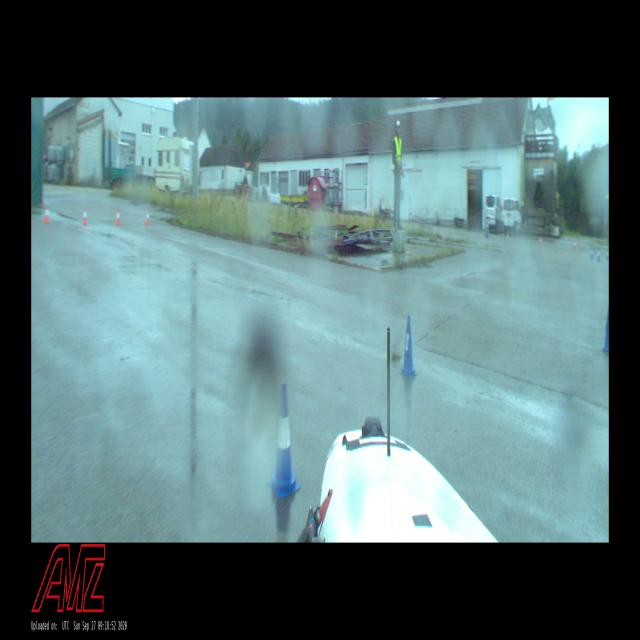blue_cone: (268, 383, 300, 499), (399, 315, 417, 378), (601, 304, 609, 352)
orange_cone: (44, 204, 50, 223), (115, 208, 121, 225), (82, 207, 88, 224), (146, 209, 150, 225)
